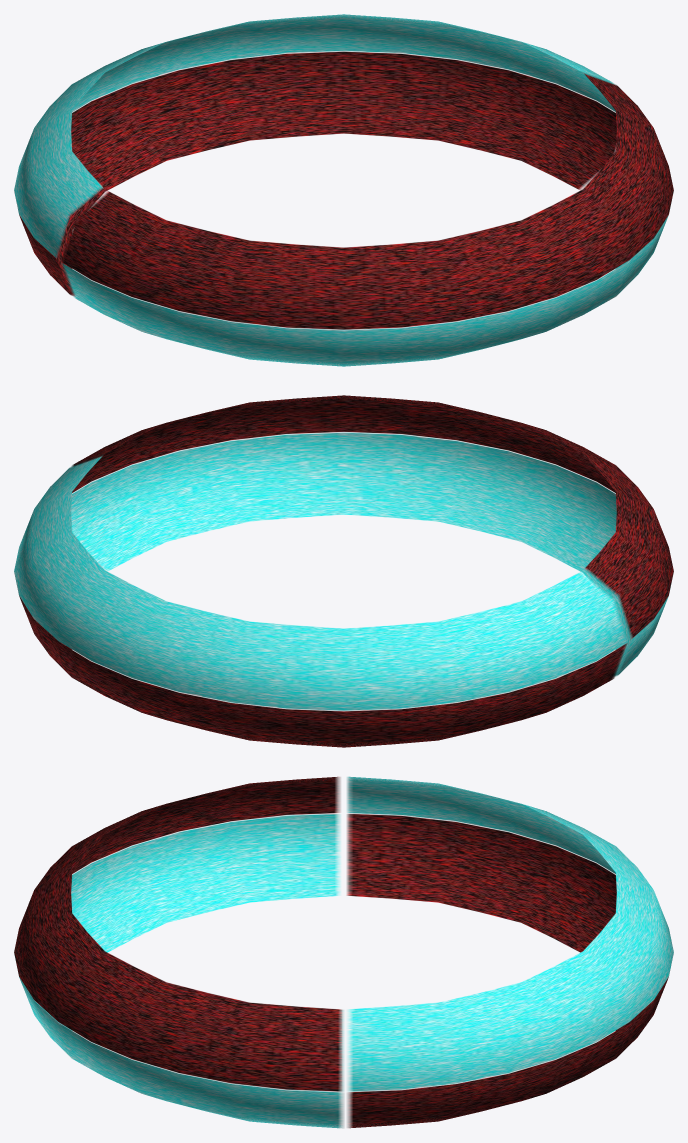
3 renders of one model, top to bottom at view 1: azimuth 30°, elevation 25°; view 2: azimuth 150°, elevation 25°; view 3: azimuth 270°, elevation 25°, orthographic.
Parts seen in each view (by area): view 1: SM_VFX_Ring_288_LOD0; view 2: SM_VFX_Ring_288_LOD0; view 3: SM_VFX_Ring_288_LOD0.
Part boxes in pixels (bbox=[...]): SM_VFX_Ring_288_LOD0: bbox=[14, 14, 673, 366]; SM_VFX_Ring_288_LOD0: bbox=[14, 395, 673, 747]; SM_VFX_Ring_288_LOD0: bbox=[14, 776, 673, 1128].
Size of the model in its own units: 2.5 by 0.4993 by 2.5.
1 material, 1 textured.
